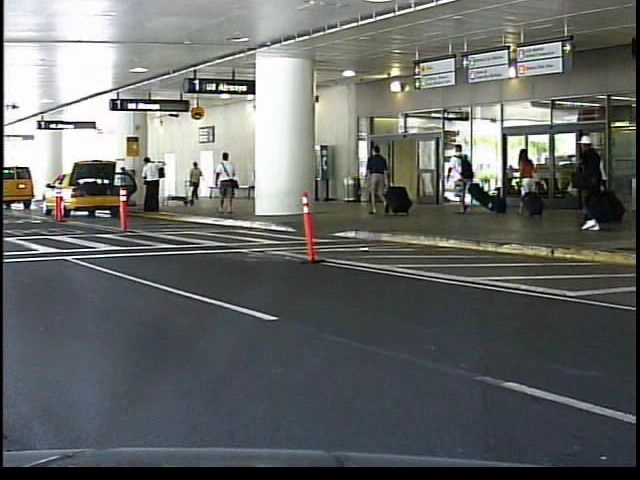person: (570, 127, 611, 239), (511, 137, 549, 225), (444, 138, 481, 218), (361, 139, 392, 222), (215, 143, 246, 216), (187, 159, 209, 207)
